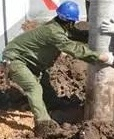boots: (35, 121, 62, 139)
gloves: (99, 50, 114, 65), (100, 18, 114, 34)
hard-hat: (56, 0, 80, 21)
ppe-suit: (0, 16, 103, 126)
